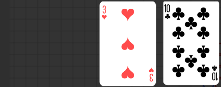10C: (211, 64, 219, 82)
